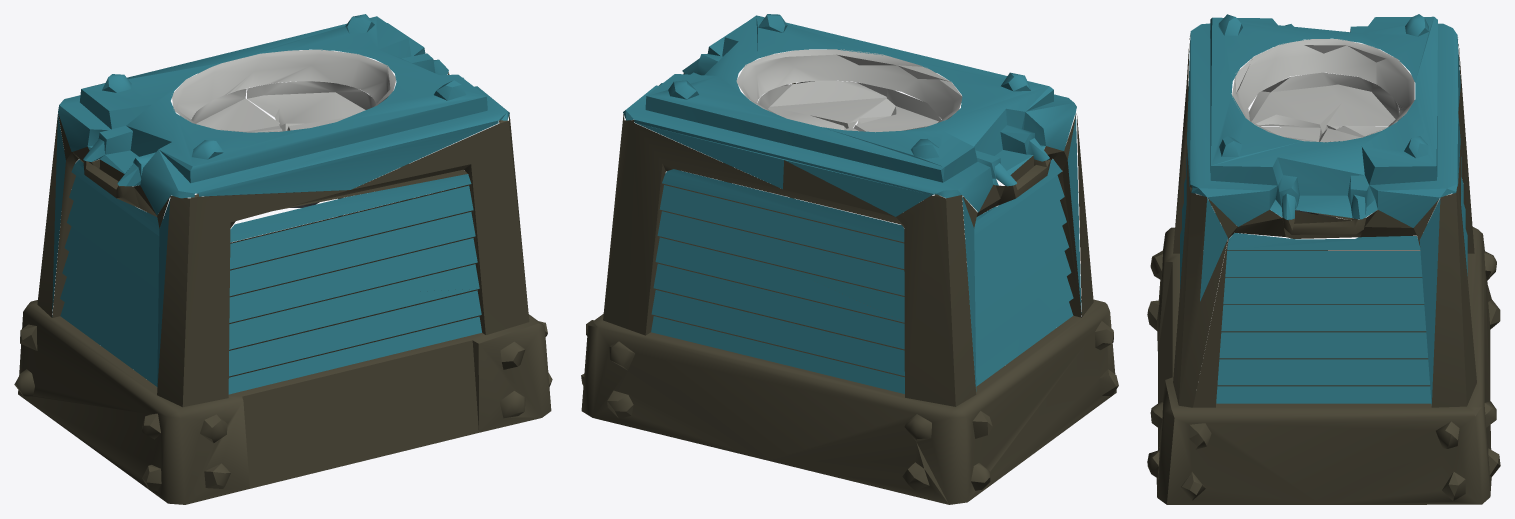
The model's file is requester-chest.glb.
3 views of the same model, side by side, from view 1: azimuth 30°, elevation 25°; view 2: azimuth 150°, elevation 25°; view 3: azimuth 270°, elevation 25° (orthographic). The views are drawn at different scales.
Visible parts, largest first — view 1: body, anim_hatch_e, anim_hatch_w; view 2: body, anim_hatch_e, anim_hatch_w; view 3: body, anim_hatch_w, anim_hatch_e.
Part boxes in pixels (bbox=[...]): body: bbox=[14, 14, 552, 504]; anim_hatch_e: bbox=[247, 81, 375, 131]; anim_hatch_w: bbox=[191, 88, 282, 132]; body: bbox=[581, 14, 1118, 504]; anim_hatch_e: bbox=[757, 80, 886, 129]; anim_hatch_w: bbox=[844, 88, 941, 132]; body: bbox=[1147, 14, 1500, 504]; anim_hatch_w: bbox=[1249, 72, 1399, 134]; anim_hatch_e: bbox=[1262, 125, 1388, 142].
Size of the model in its own units: 1.01 by 0.7617 by 0.7356.
